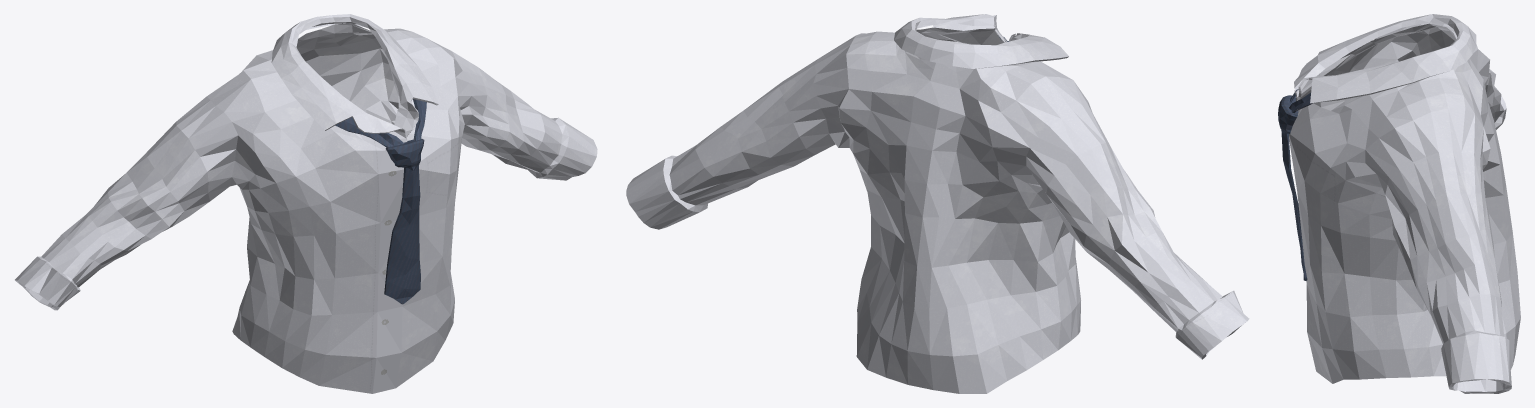
Rendered from shirt_fitted.glb.
3 renders of one model, left to right at view 1: azimuth 30°, elevation 25°; view 2: azimuth 150°, elevation 25°; view 3: azimuth 270°, elevation 25°, orthographic. The views are drawn at different scales.
Parts seen in each view (by area): view 1: Shirt_lo_M_cloth_0, Tie_lo_M_cloth_0; view 2: Shirt_lo_M_cloth_0; view 3: Shirt_lo_M_cloth_0, Tie_lo_M_cloth_0.
Boxes of the visible parts, bbox=[...] form: Shirt_lo_M_cloth_0: bbox=[15, 14, 597, 393]; Tie_lo_M_cloth_0: bbox=[335, 99, 426, 304]; Shirt_lo_M_cloth_0: bbox=[626, 14, 1249, 393]; Shirt_lo_M_cloth_0: bbox=[1289, 14, 1520, 393]; Tie_lo_M_cloth_0: bbox=[1278, 89, 1312, 280].
Bounding box in the file's own units: 1044 × 557 × 365.
Materials: 1 (1 with a texture image).
